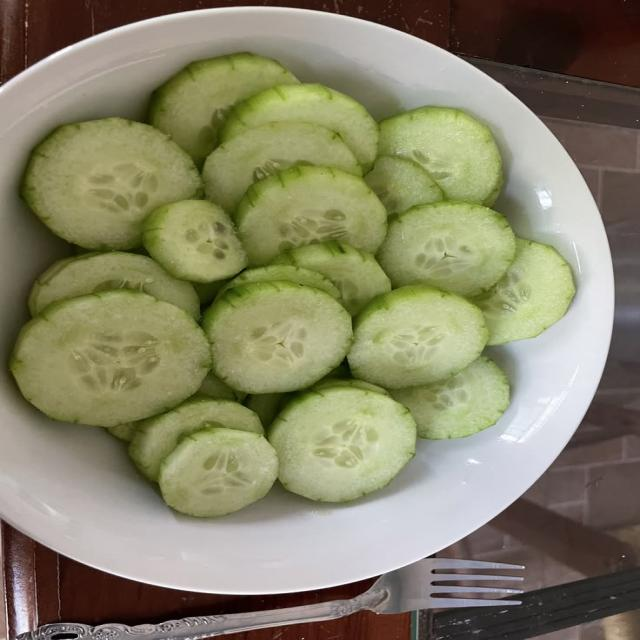cucumber sliced: (11, 291, 210, 426), (21, 118, 202, 250), (268, 387, 416, 502), (148, 53, 298, 165), (203, 281, 352, 393), (235, 166, 386, 265), (203, 122, 361, 212), (348, 286, 487, 388), (220, 84, 378, 170), (377, 202, 515, 296), (380, 107, 502, 204), (29, 252, 199, 318), (129, 397, 263, 480), (474, 239, 575, 345), (159, 428, 278, 517), (392, 356, 509, 439), (274, 241, 391, 315), (143, 200, 246, 283), (365, 156, 443, 215), (221, 265, 340, 300), (244, 394, 287, 428), (312, 378, 389, 395), (198, 372, 236, 401), (192, 280, 227, 305), (321, 359, 352, 380), (107, 422, 139, 442)
